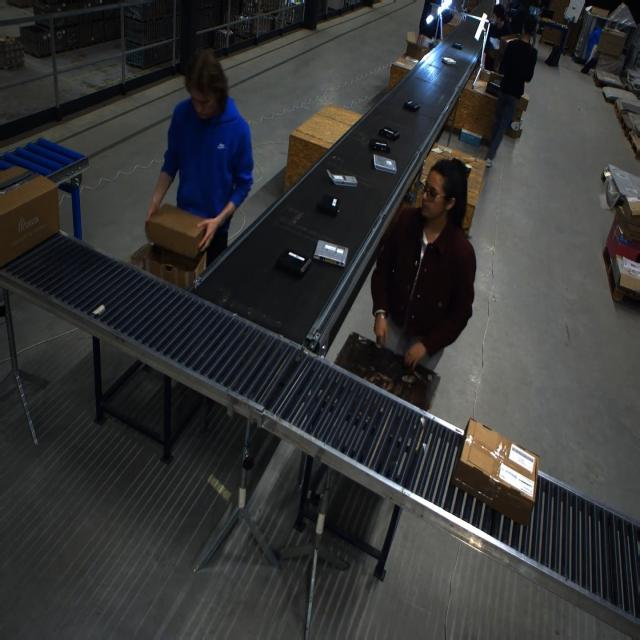box: (453, 418, 540, 521), (0, 173, 59, 269), (145, 204, 207, 260), (141, 244, 208, 289), (613, 201, 639, 245), (1, 164, 33, 194), (597, 28, 626, 57), (402, 31, 430, 60), (539, 23, 563, 46), (513, 91, 528, 117), (485, 70, 503, 88), (588, 6, 609, 18)
product: (275, 249, 312, 278), (314, 239, 348, 268), (316, 195, 341, 217), (326, 170, 356, 187), (372, 154, 396, 174), (378, 126, 400, 141), (369, 138, 390, 152), (403, 100, 420, 112), (441, 56, 457, 64), (451, 42, 462, 50)
